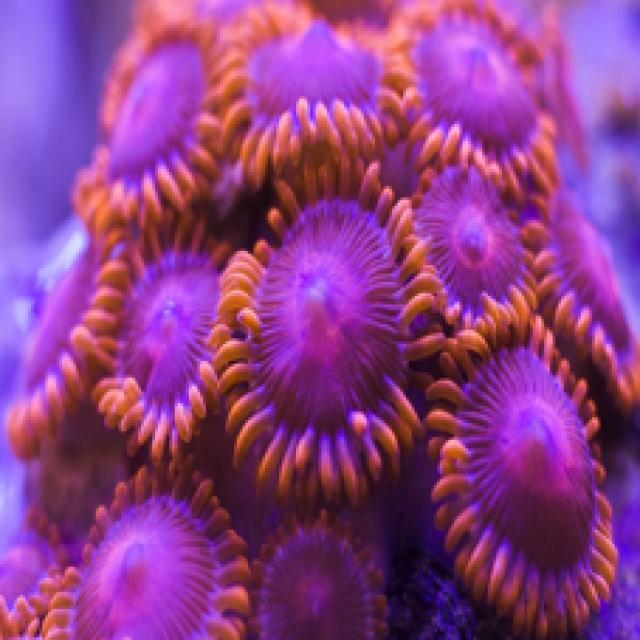Healthy: (427, 308, 618, 635), (139, 1, 432, 201), (227, 201, 418, 489), (7, 150, 139, 458), (69, 466, 249, 635), (415, 18, 556, 207), (91, 249, 221, 441), (531, 187, 638, 410), (88, 4, 218, 187), (263, 511, 384, 638), (415, 167, 520, 300)
